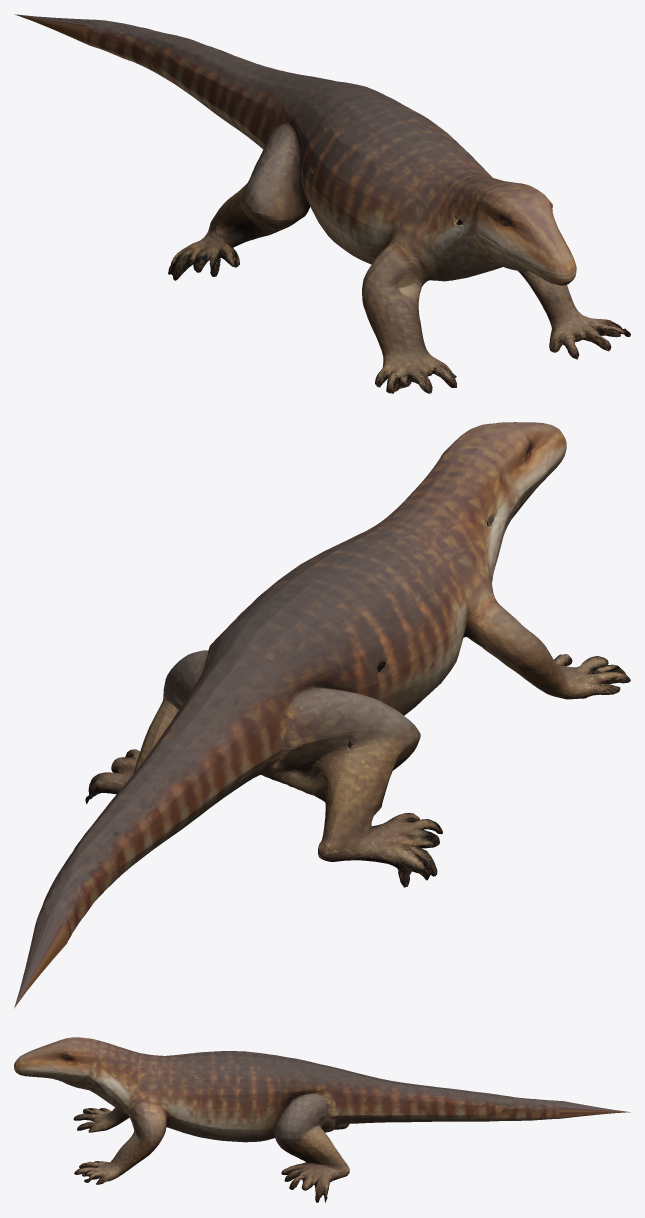
3 views of the same model, one above another, from view 1: azimuth 30°, elevation 25°; view 2: azimuth 150°, elevation 25°; view 3: azimuth 270°, elevation 25° (orthographic). The views are drawn at different scales.
Visible parts, largest first — view 1: world; view 2: world; view 3: world.
Boxes of the visible parts, <box> form: world: <box>15,14,630,393</box>; world: <box>14,422,630,1008</box>; world: <box>14,1037,630,1202</box>.
Bounding box in the file's own units: 0.3334 × 0.2169 × 1.
Materials: 1 (1 with a texture image).
